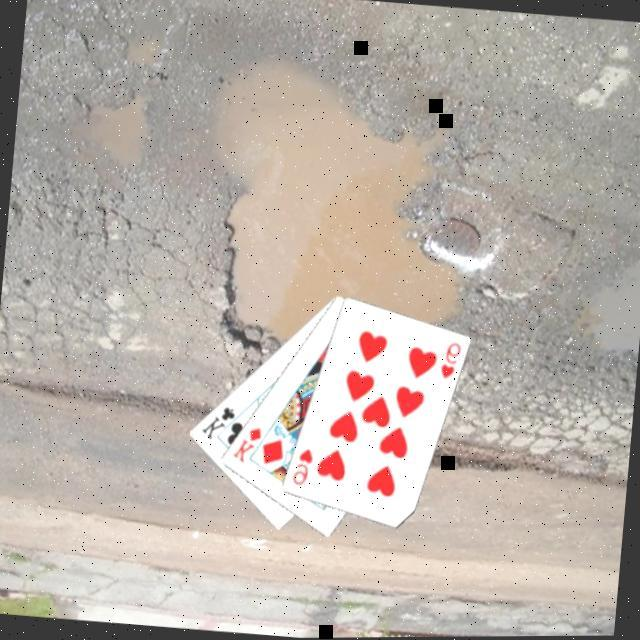9H: (287, 446, 315, 491), (434, 341, 462, 385)
KC: (196, 403, 244, 447)
KD: (226, 424, 264, 468)
